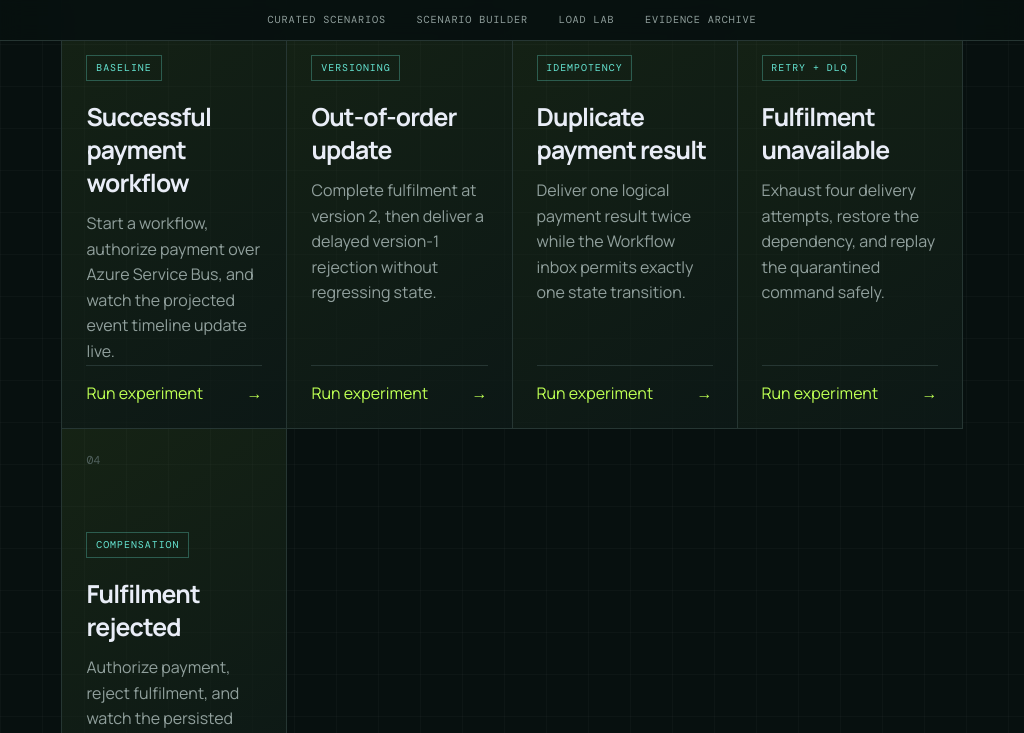
it: EventLab experiment console › reveals and scrolls to the live experiment after launch
The width and height of the screenshot is (1024, 733).
(page scrolled)
Click the button "Run experiment →" below "Successful payment workflow" at [174, 384], box [86,364,262,404]
(page scrolled)
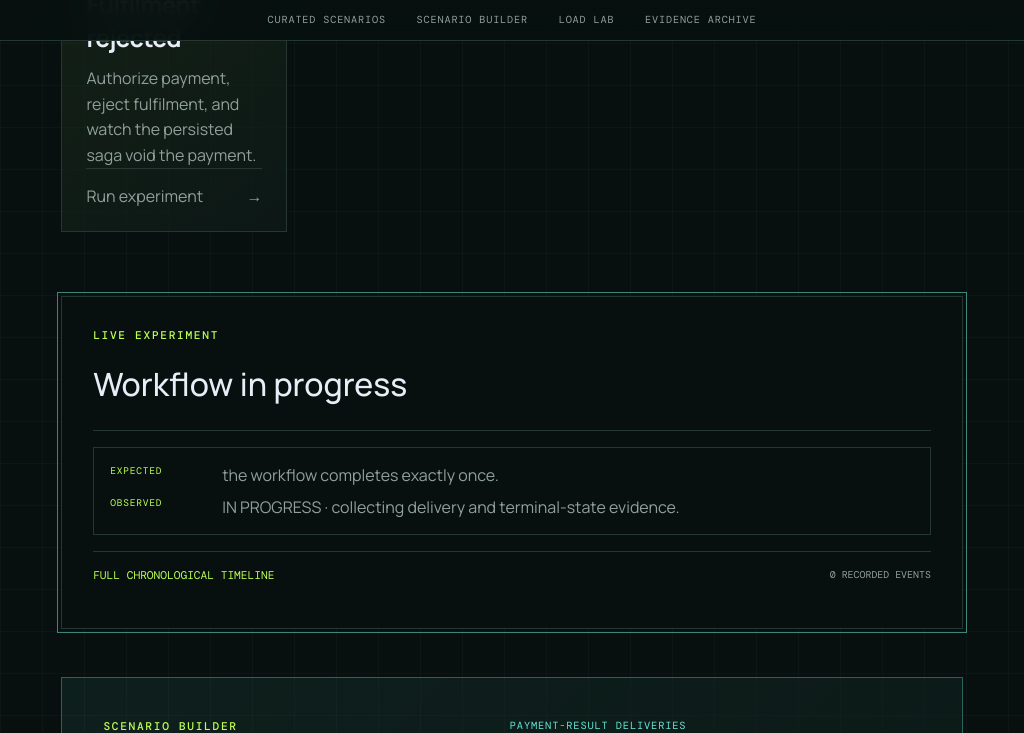
Expected: the heading "Workflow in progress" is shown, [93,362,407,406]
